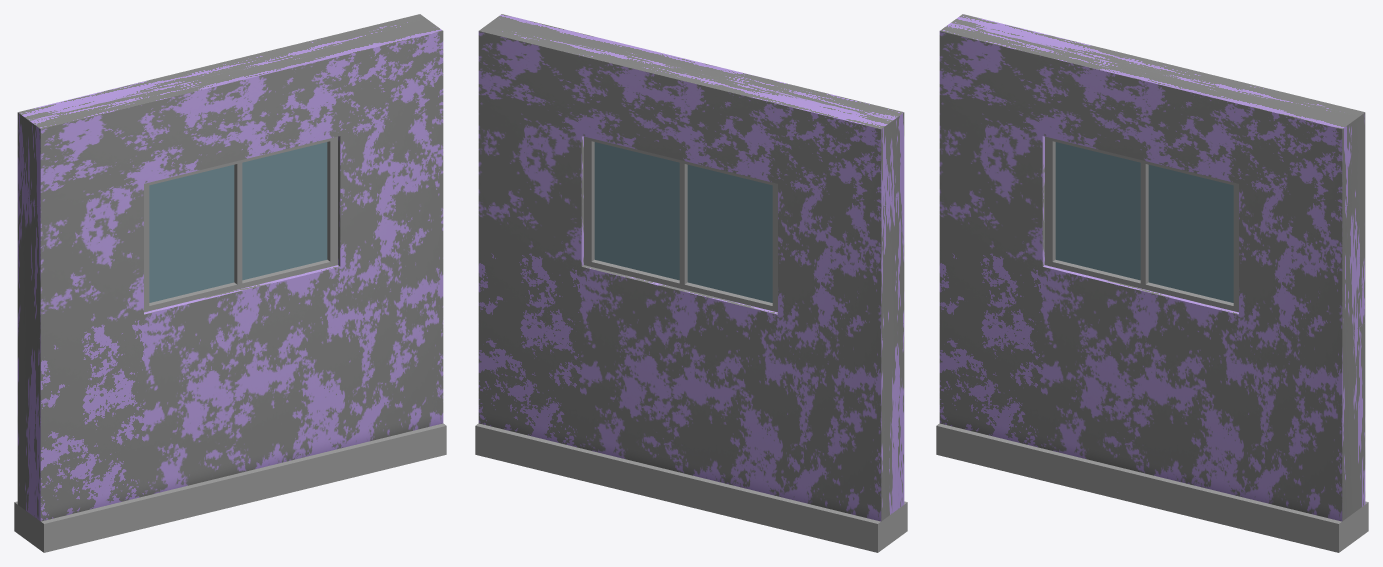
The model's file is Ventana2.fbx.
The picture shows the model from 3 angles, left to right: view 1: azimuth 30°, elevation 25°; view 2: azimuth 150°, elevation 25°; view 3: azimuth 330°, elevation 25°; orthographic projection.
Visible parts, largest first — view 1: Ventana; view 2: Ventana; view 3: Ventana.
Boxes of the visible parts, bbox=[...] form: Ventana: bbox=[14, 14, 446, 552]; Ventana: bbox=[475, 14, 907, 552]; Ventana: bbox=[936, 14, 1368, 552].
Size of the model in its own units: 200 by 200 by 25.64.
